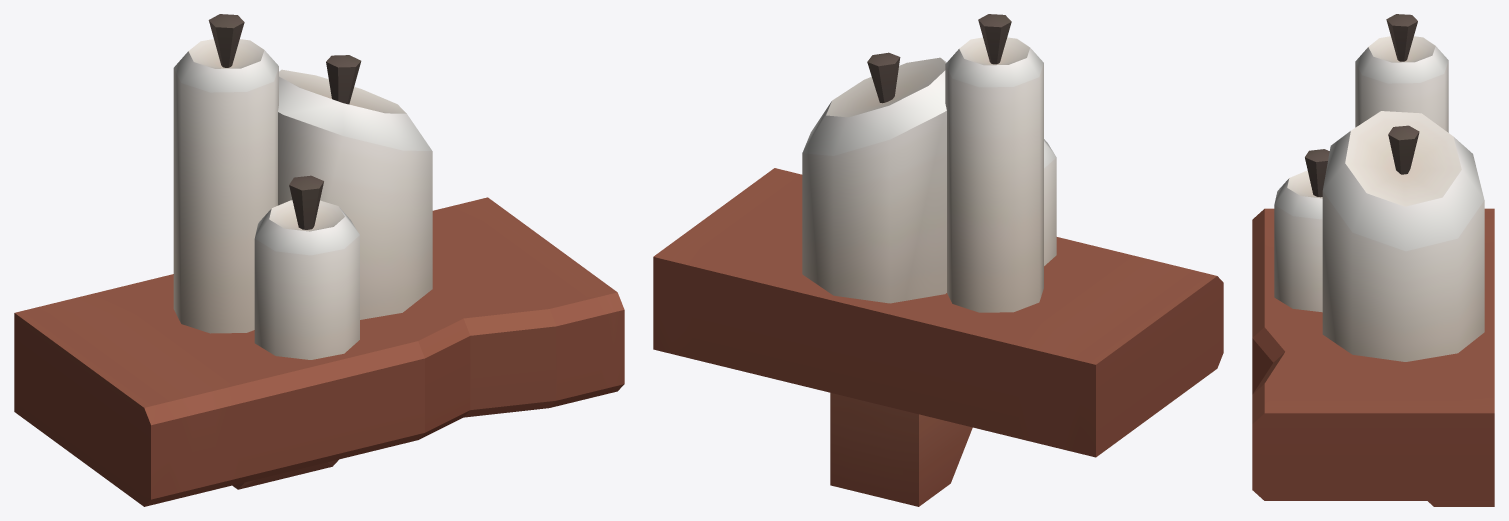
File: d_kaykit_etagere_bougies.glb
3 renders of one model, left to right at view 1: azimuth 30°, elevation 25°; view 2: azimuth 150°, elevation 25°; view 3: azimuth 270°, elevation 25°, orthographic. The views are drawn at different scales.
Parts seen in each view (by area): view 1: d_kaykit_etagere_bougies; view 2: d_kaykit_etagere_bougies; view 3: d_kaykit_etagere_bougies.
Part boxes in pixels (x1,y1,x2,y2): d_kaykit_etagere_bougies: (14, 14, 624, 506); d_kaykit_etagere_bougies: (653, 14, 1223, 506); d_kaykit_etagere_bougies: (1252, 14, 1494, 506).
Bounding box in the file's own units: 1 × 0.9941 × 0.5001.
1 material, 1 textured.
